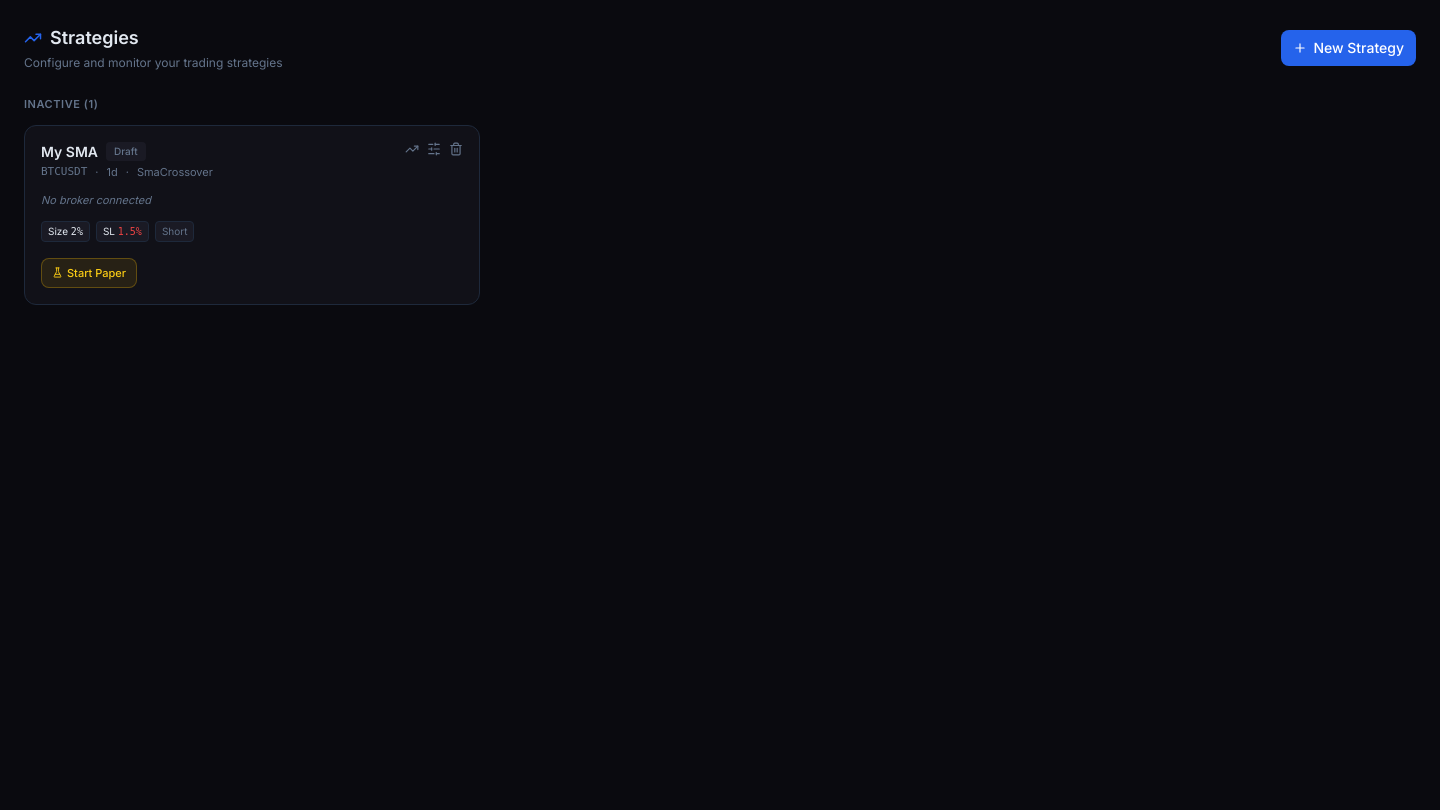
it: Strategies page › shows the config summary and opens the edit-config dialog
Expected: the text "2%" is shown, [71,226,83,236]
# Clicking the edit-config button opens the dialog with the config form.
Click the button titled "Edit config".
click(434, 148)  # box [427,142,441,156]
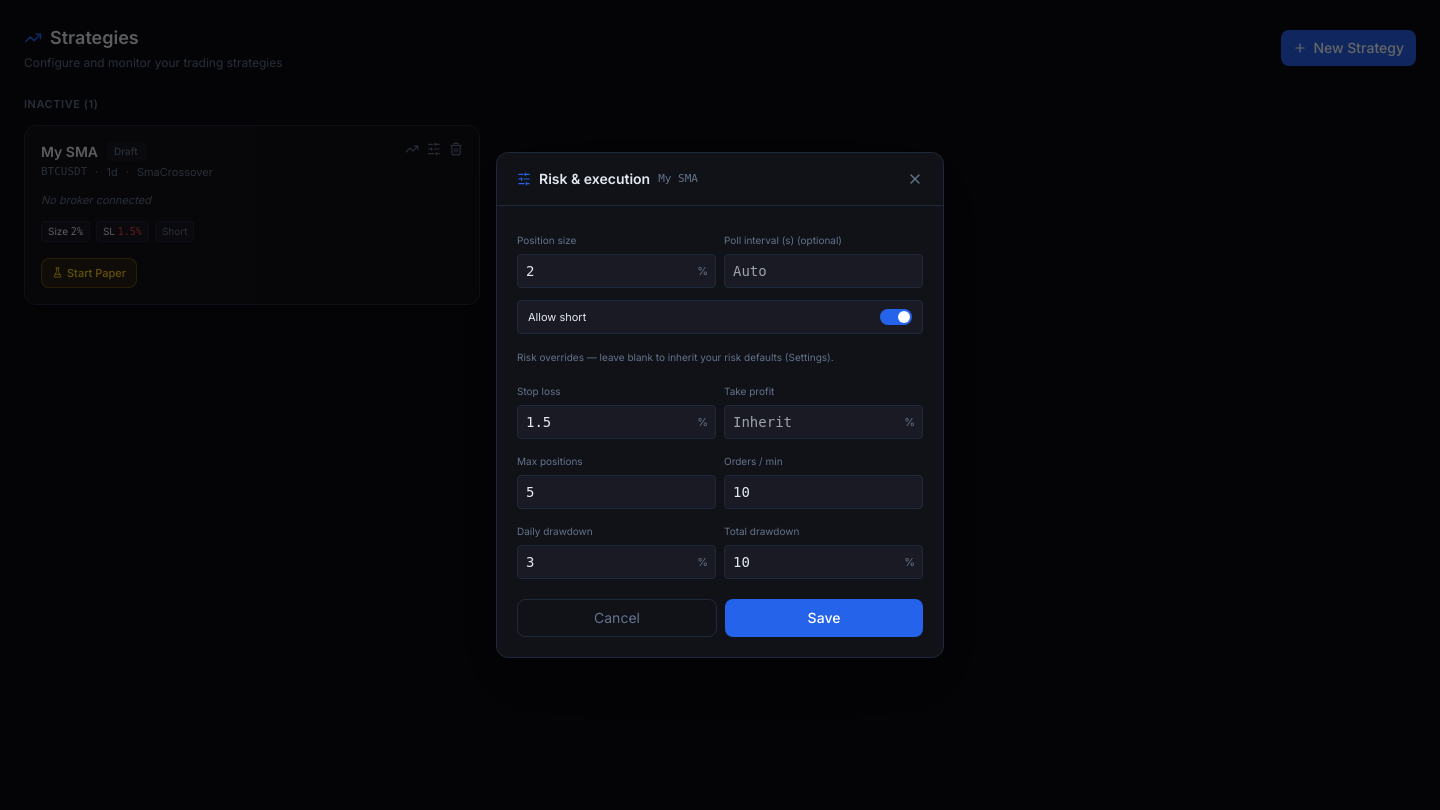
Now the text "Position size" is shown, box [517,234,576,246]
Now the text "Allow short" is shown, box [528,309,586,325]
